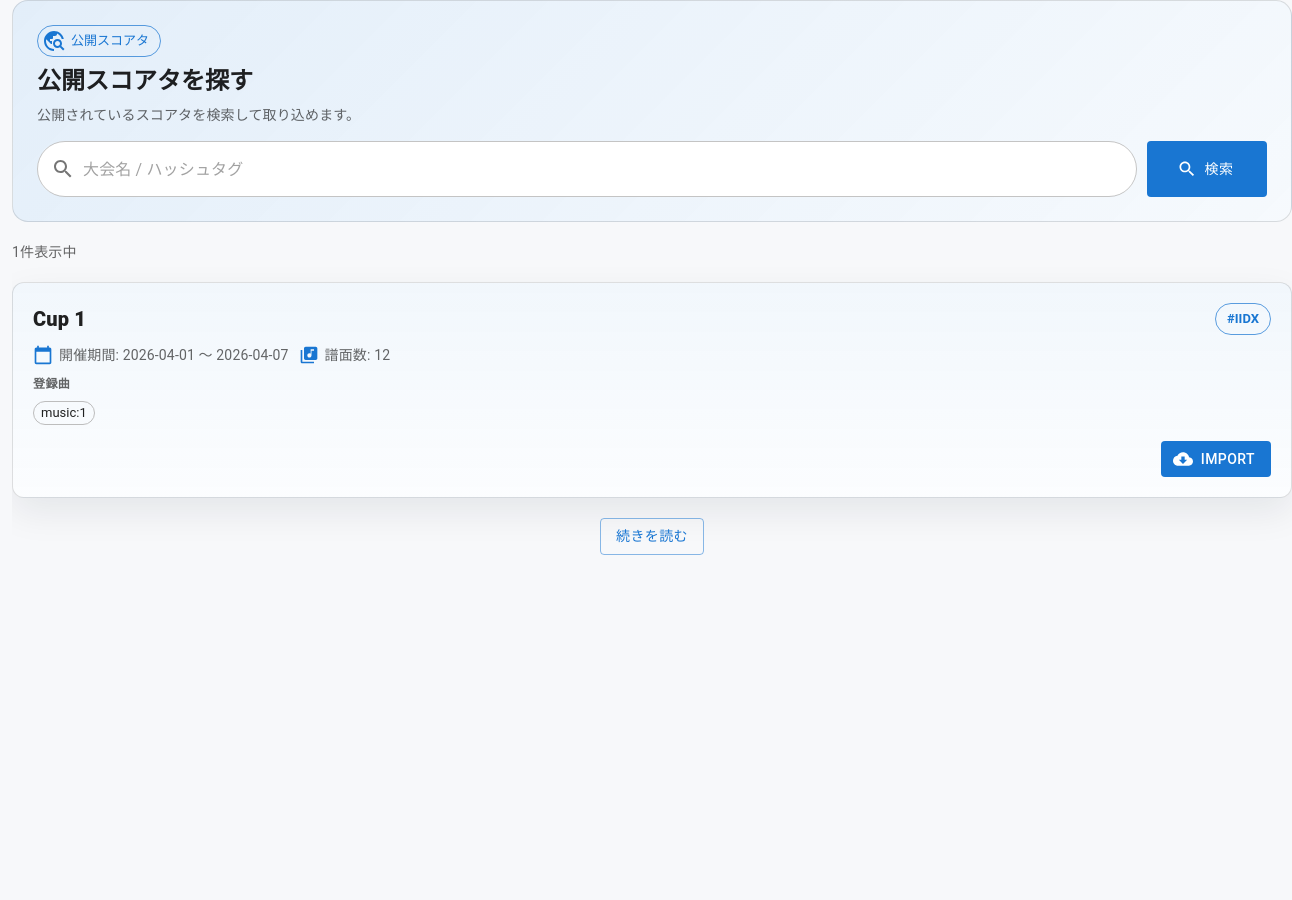
Test: PublicCatalogPage › keeps resolved preview updates when loading more finishes first
The width and height of the screenshot is (1292, 900).
expect the heading "Cup 1" is shown: met, box left=33, top=303, right=86, bottom=335
expect the text "music:1" is shown: met, box left=41, top=405, right=87, bottom=420
Click the button "続きを読む" at point(652, 537), box left=600, top=518, right=704, bottom=555
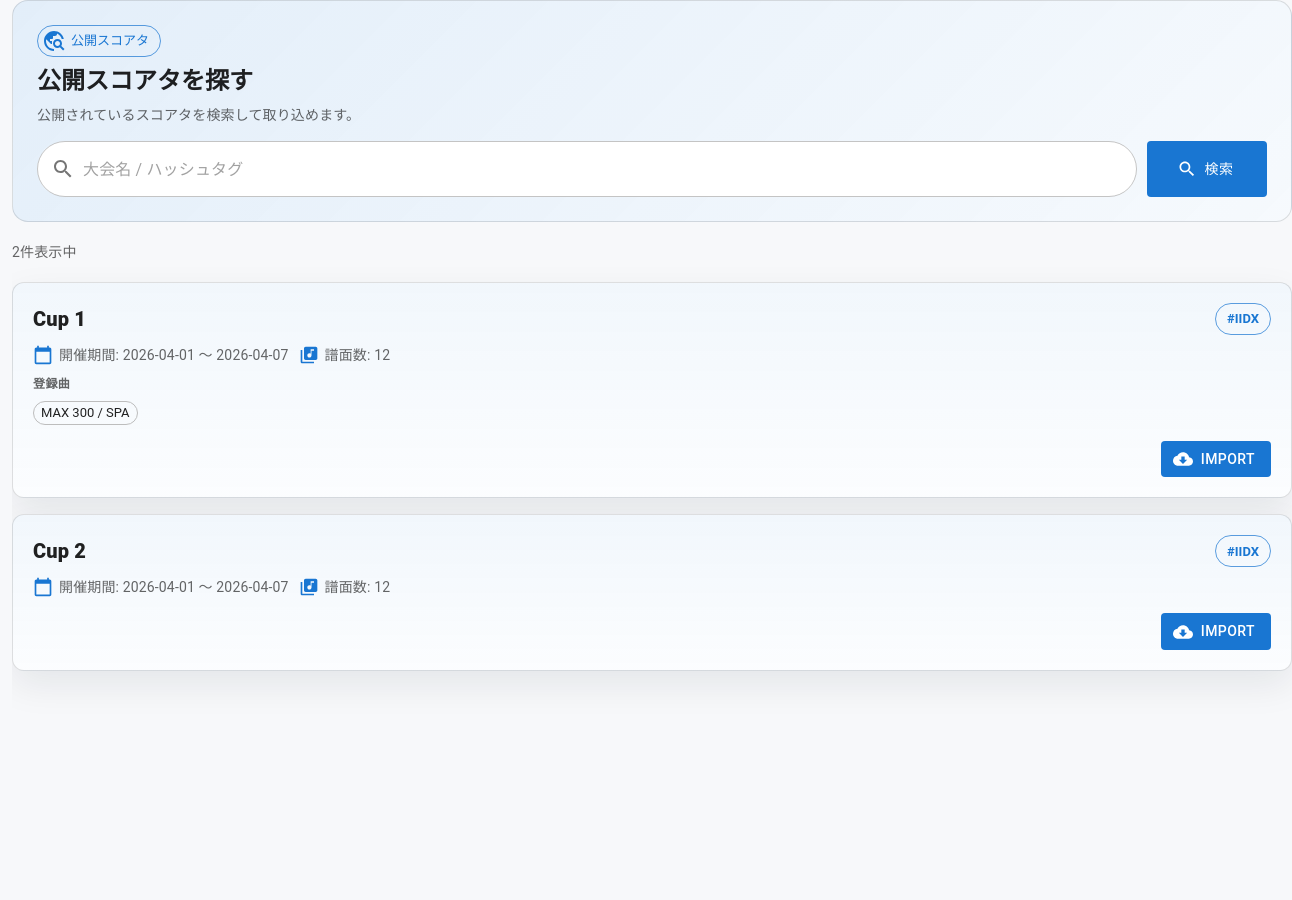
expect the text "MAX 300 / SPA" is shown: met, box left=34, top=403, right=137, bottom=423
expect the heading "Cup 2" is shown: met, box left=33, top=536, right=86, bottom=568
